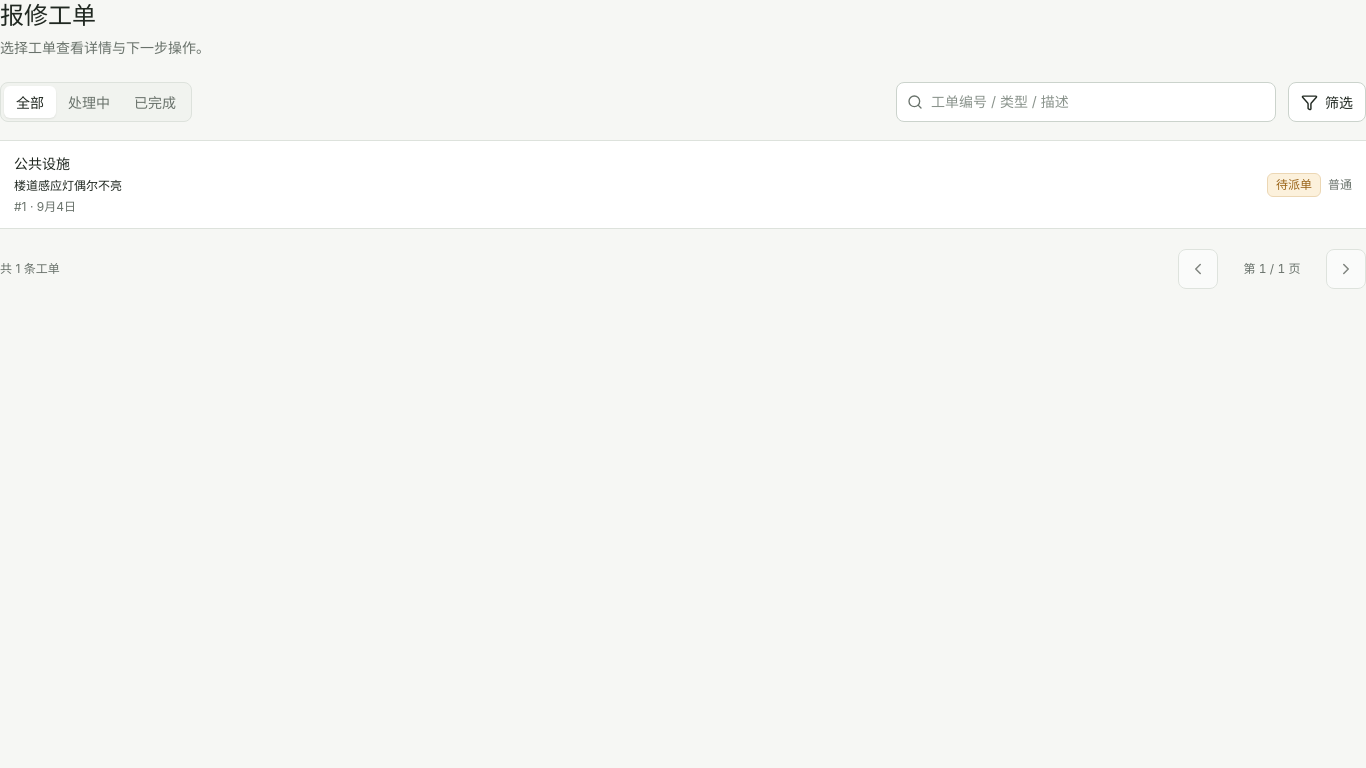
it: property repair workflow › opens a sparse row in a detail sheet and assigns a submitted order
This screenshot has width=1366, height=768.
Click the button with aria-label "查看报修：公共设施" at (42, 164), box 0,141 -> 1365,228
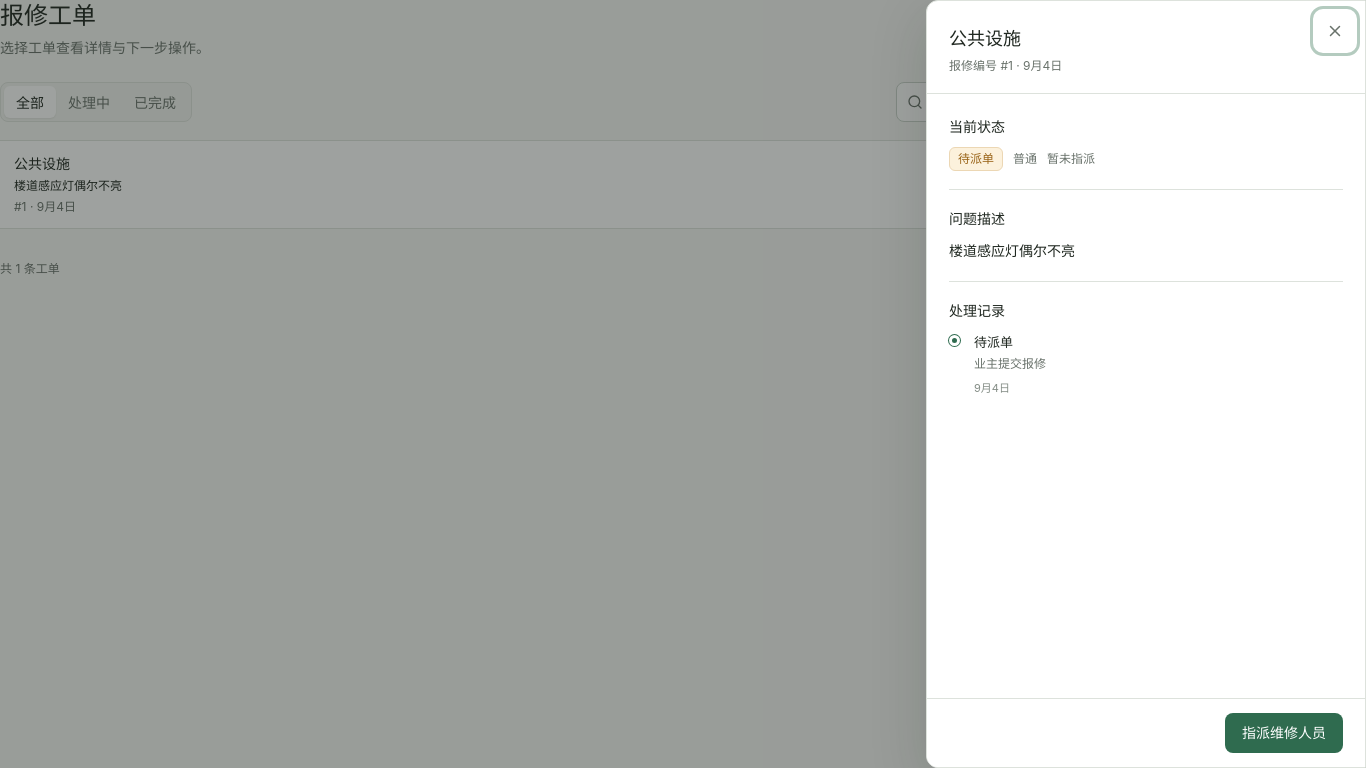
Expected: the dialog "公共设施" is shown, 926,0 -> 1365,767
Expected: the button named "关闭" is shown, 1315,11 -> 1355,51
Click the button "指派维修人员" at (1284, 733), box 1225,713 -> 1343,753
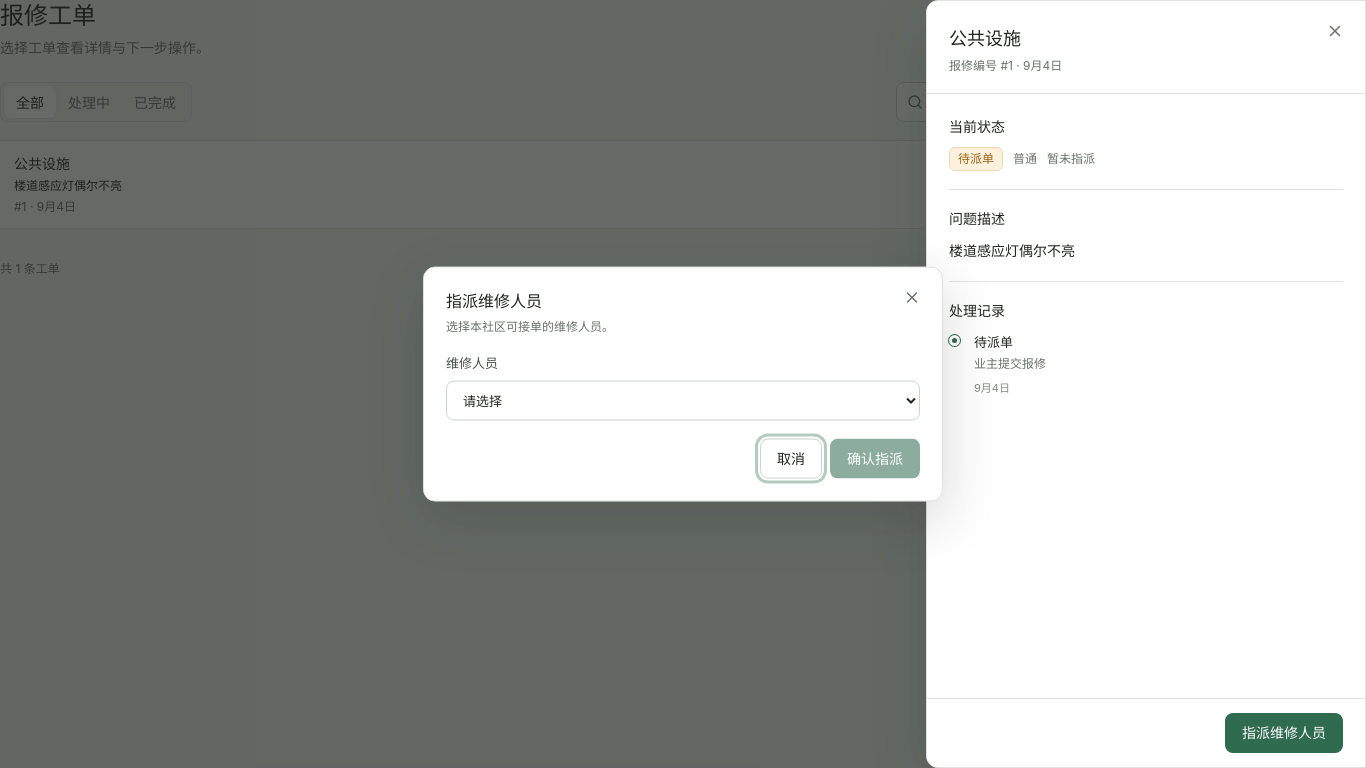
Select "陈师傅" in the dropdown labelled "维修人员" at (683, 400), box 446,380 -> 920,420
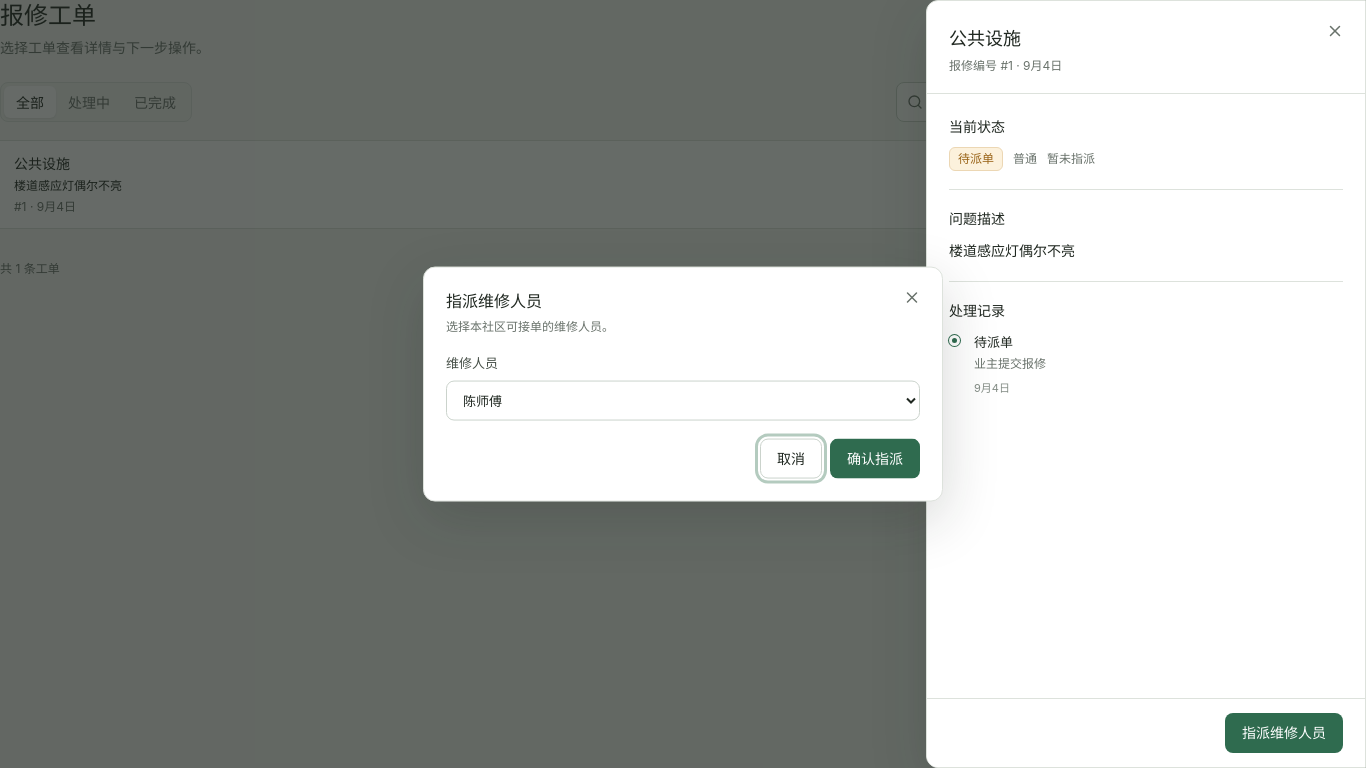
Click the button "确认指派" at (875, 458), box 830,438 -> 920,478
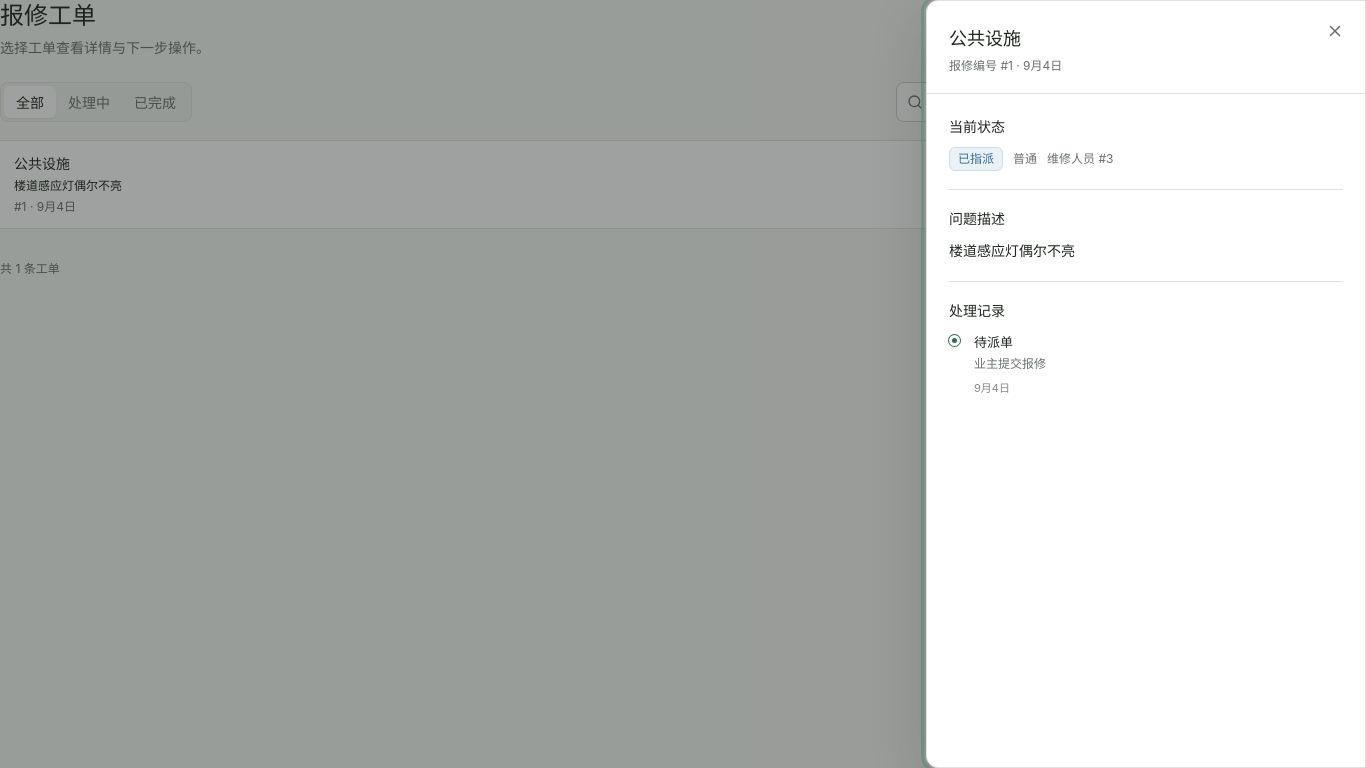
Expected: the text "已指派" is shown, 949,147 -> 1003,171
Expected: the button "指派维修人员" is gone
